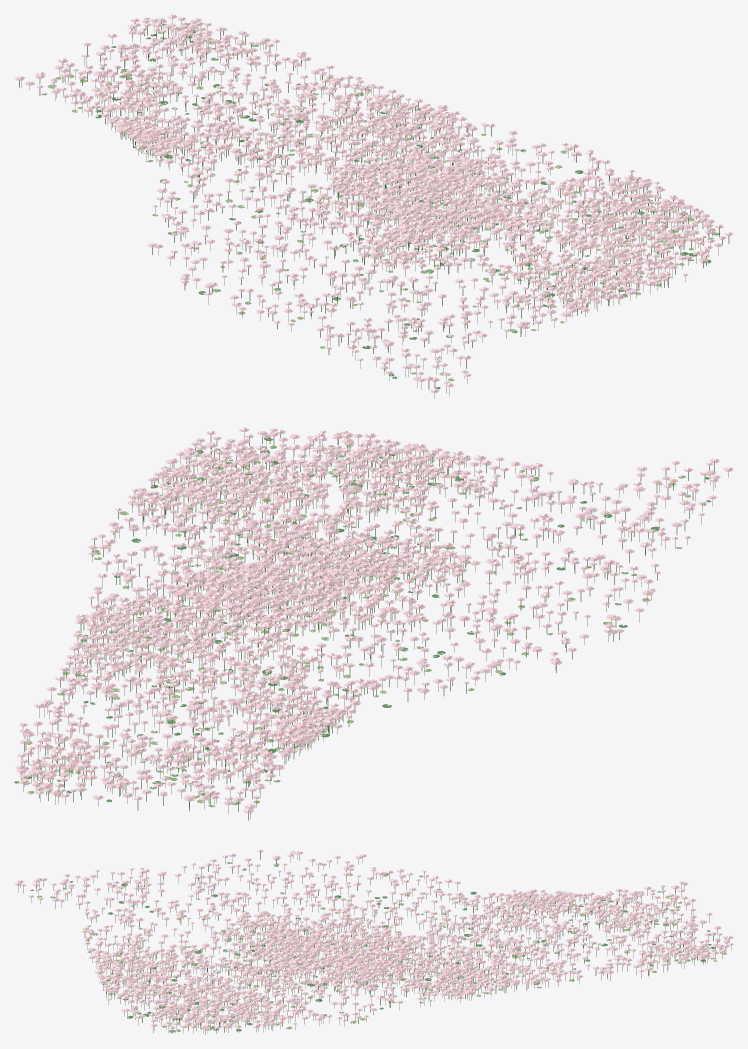
The model's file is dongpo-surroundings.glb.
3 renders of one model, top to bottom at view 1: azimuth 30°, elevation 25°; view 2: azimuth 150°, elevation 25°; view 3: azimuth 270°, elevation 25°, orthographic. The views are drawn at different scales.
Parts seen in each view (by area): view 1: dongpo-surroundings; view 2: dongpo-surroundings; view 3: dongpo-surroundings.
Part boxes in pixels (box(x1,y1,x2,y2)): dongpo-surroundings: box(14, 14, 733, 398); dongpo-surroundings: box(14, 427, 733, 820); dongpo-surroundings: box(14, 849, 733, 1034).
Bounding box in the file's own units: 40.78 × 1.06 × 69.2.
